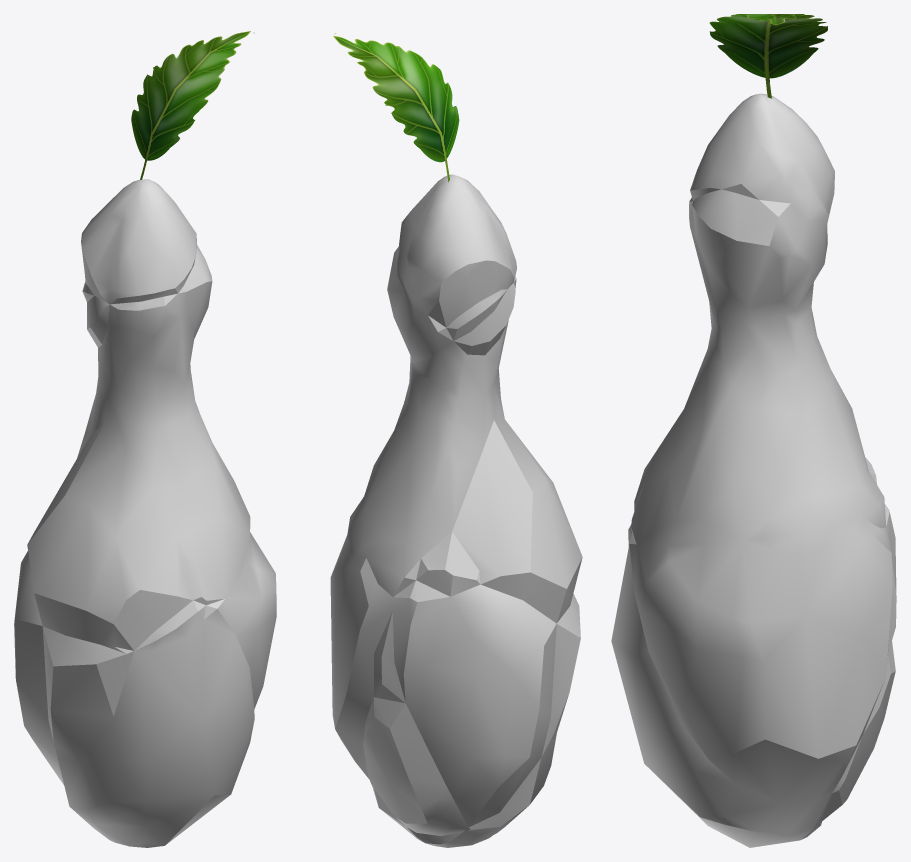
The model's file is Pin.FBX.
3 renders of one model, left to right at view 1: azimuth 30°, elevation 25°; view 2: azimuth 150°, elevation 25°; view 3: azimuth 270°, elevation 25°, orthographic. The views are drawn at different scales.
Visible parts, largest first — view 1: Line001, Plane001; view 2: Line001, Plane001; view 3: Line001, Plane001.
Part boxes in pixels (box(x1,y1,x2,y2)): Line001: box(14, 179, 276, 847); Plane001: box(131, 31, 254, 179); Line001: box(330, 174, 582, 847); Plane001: box(333, 33, 459, 182); Line001: box(611, 93, 896, 847); Plane001: box(709, 14, 827, 98).
Bounding box in the file's own units: 19.43 × 62.49 × 18.6.
Materials: 1 (1 with a texture image).
